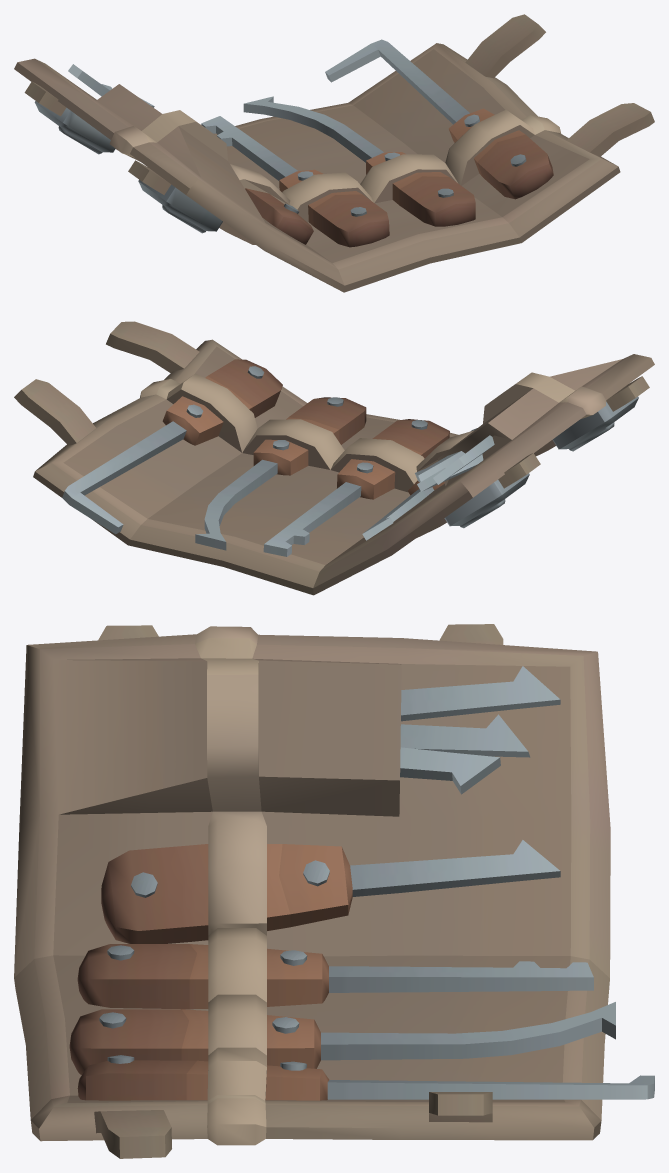
Rendered from lockpick_set.glb.
3 views of the same model, one above another, from view 1: azimuth 30°, elevation 25°; view 2: azimuth 150°, elevation 25°; view 3: azimuth 270°, elevation 25° (orthographic). The views are drawn at different scales.
Parts seen in each view (by area): view 1: lockpick_set; view 2: lockpick_set; view 3: lockpick_set.
Part boxes in pixels (<box>): lockpick_set: <box>14,14,654,292</box>; lockpick_set: <box>14,321,654,595</box>; lockpick_set: <box>14,624,654,1158</box>.
Bounding box in the file's own units: 1.57 × 0.4371 × 1.04.
Materials: 1 (1 with a texture image).
